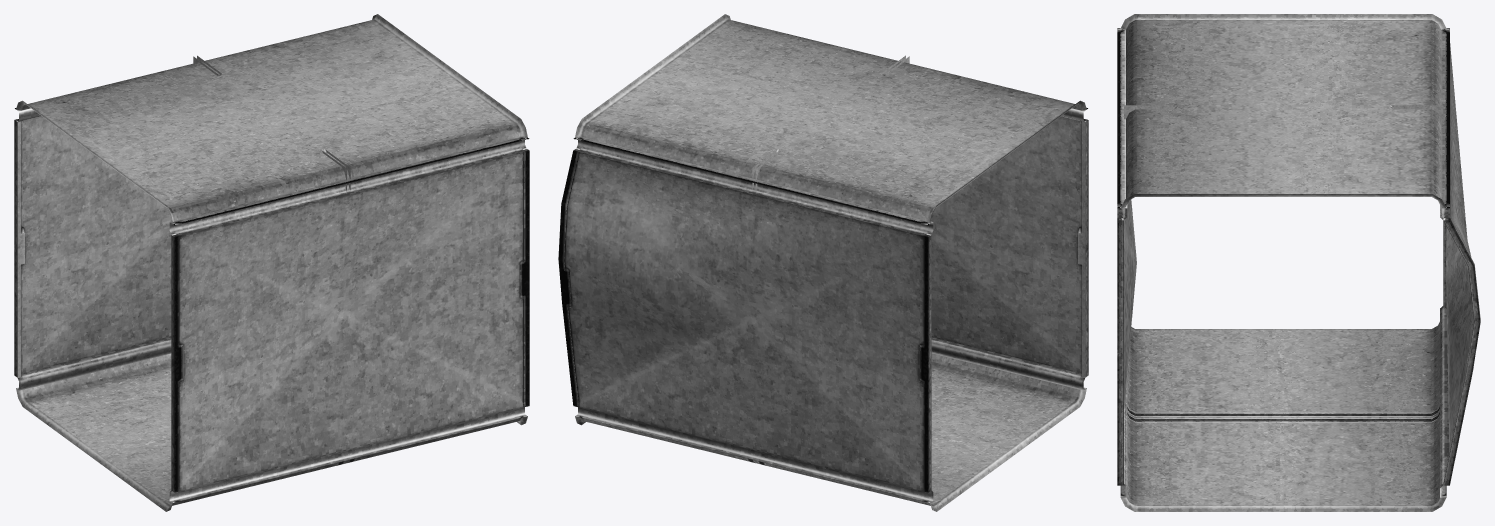
File: vent_shaft_straight_buckled_oneside.dae
The picture shows the model from 3 angles, left to right: view 1: azimuth 30°, elevation 25°; view 2: azimuth 150°, elevation 25°; view 3: azimuth 270°, elevation 25°; orthographic projection. The views are drawn at different scales.
Visible parts, largest first — view 1: straight; view 2: straight; view 3: straight.
Part boxes in pixels (bbox=[...]): straight: bbox=[14, 14, 529, 511]; straight: bbox=[558, 14, 1088, 511]; straight: bbox=[1117, 14, 1480, 511].
Bounding box in the file's own units: 2 × 1.65 × 1.71.
